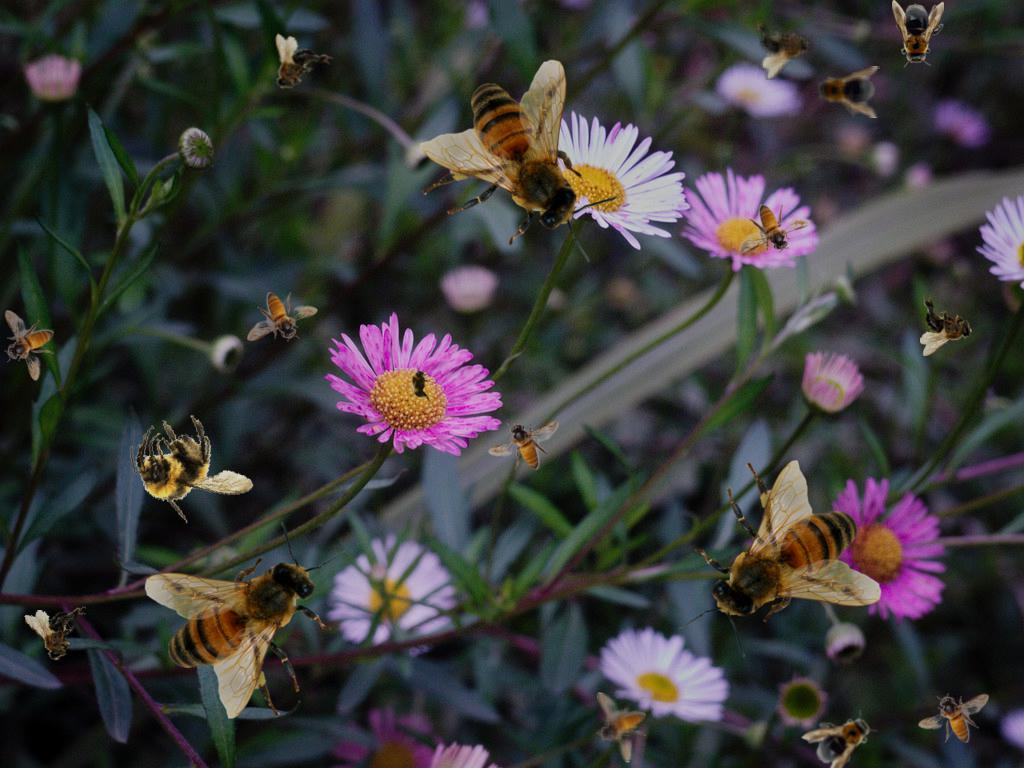Bee: (678, 460, 882, 659), (144, 520, 348, 719), (420, 59, 619, 263), (124, 404, 259, 533), (799, 697, 885, 768), (257, 30, 336, 104), (750, 8, 817, 82), (23, 602, 94, 666), (739, 204, 810, 254), (918, 693, 989, 743), (488, 420, 559, 470), (596, 692, 646, 763), (4, 310, 54, 381), (247, 292, 318, 342), (812, 66, 880, 118), (892, 0, 944, 68), (920, 294, 973, 356), (409, 364, 431, 404)
